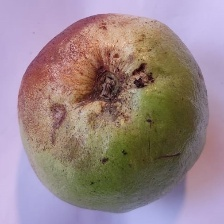guava: (17, 31, 189, 199)
